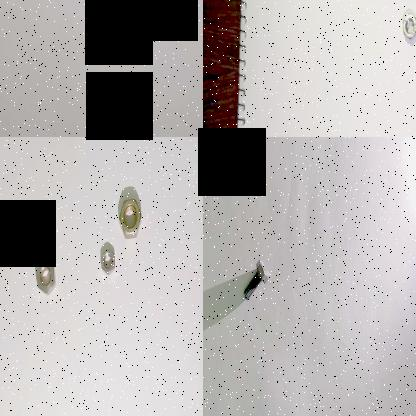Bolts: (241, 258, 272, 302)
NUTS: (116, 186, 142, 242), (36, 260, 58, 296), (399, 7, 416, 46), (99, 245, 115, 277)
